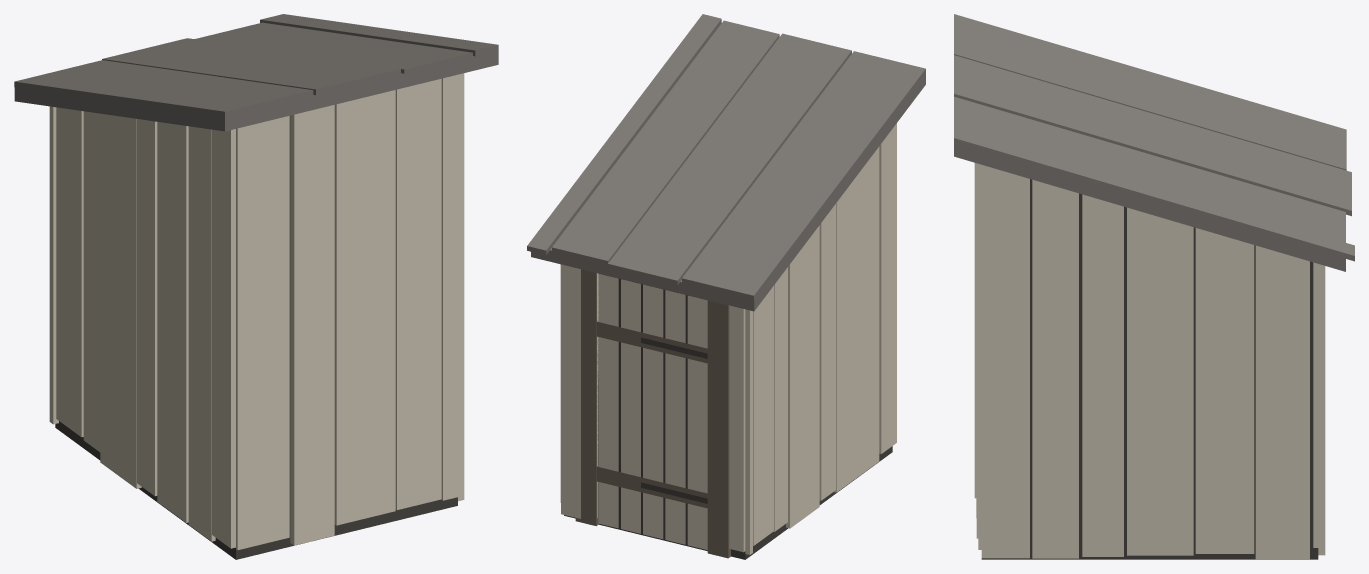
Rendered from recon_1835_blk_washington_market_a3_03__inferred_1835.glb.
The picture shows the model from 3 angles, left to right: view 1: azimuth 30°, elevation 25°; view 2: azimuth 150°, elevation 25°; view 3: azimuth 270°, elevation 25°; orthographic projection. The views are drawn at different scales.
Visible parts, largest first — view 1: recon_1835_blk_washington_market_a3_03__inferred_1835; view 2: recon_1835_blk_washington_market_a3_03__inferred_1835; view 3: recon_1835_blk_washington_market_a3_03__inferred_1835.
Part boxes in pixels (<box>): recon_1835_blk_washington_market_a3_03__inferred_1835: <box>14,14,498,559</box>; recon_1835_blk_washington_market_a3_03__inferred_1835: <box>527,14,925,559</box>; recon_1835_blk_washington_market_a3_03__inferred_1835: <box>954,14,1354,559</box>.
Size of the model in its own units: 1.72 by 2.8 by 2.35.
